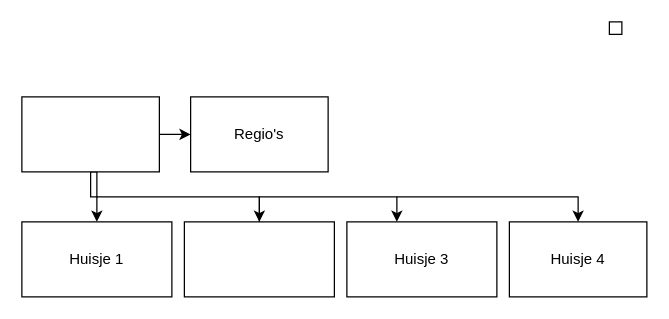
Some shapes in this 669 by 319 pixel diagram are drawn without their labels. Here are the shapes that lost their labels. From the top down, the centre of each, then its label:
At [90,134]: "Home".
At [258,259]: "Huisje 2".
